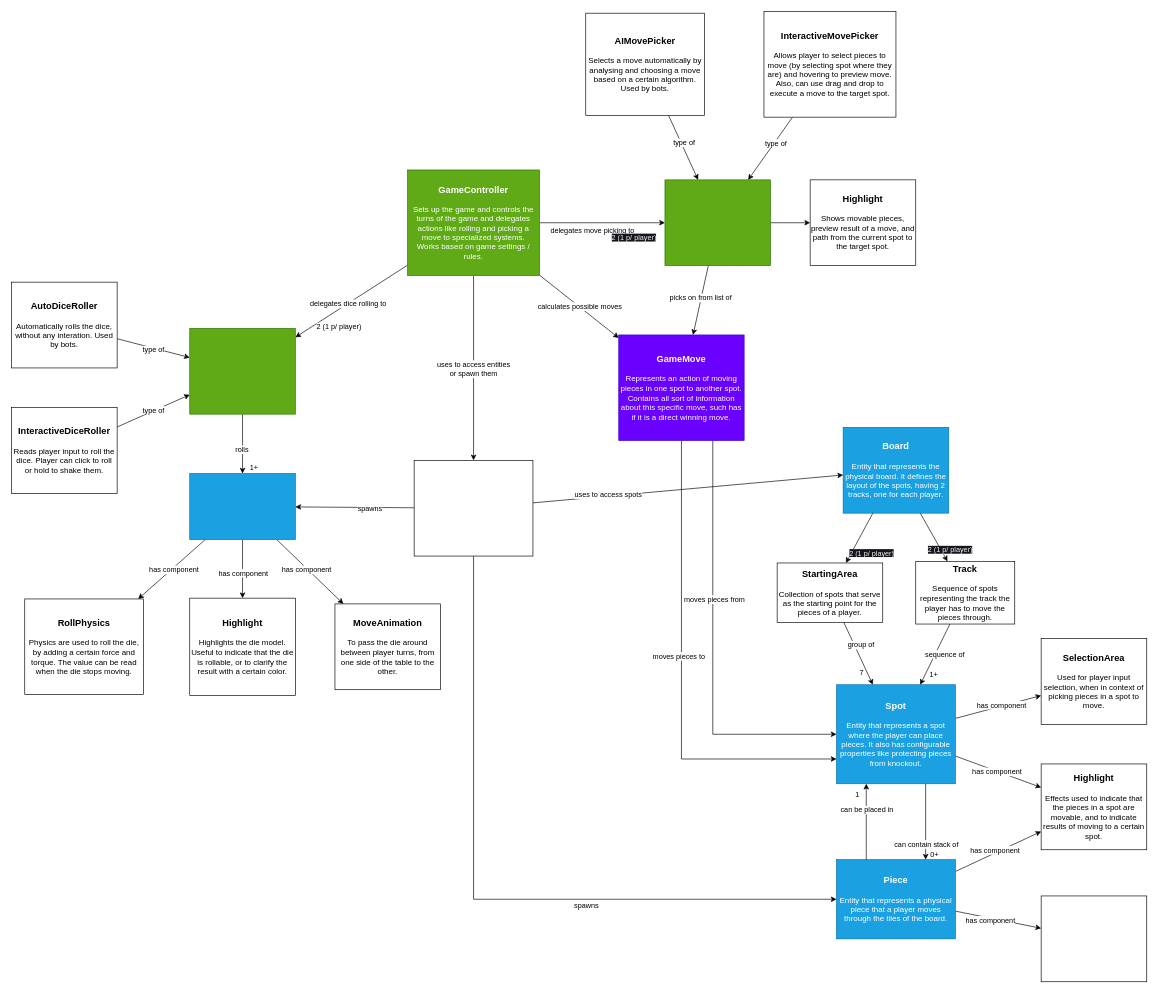
The diagram is 1158 pixels wide and 993 high, and some of its shapes have lost their labels. Here are the shapes that lost their labels. From the top down, the centre of each, then its label:
At pixel 717 222: "MovePicker Controls the process of picking a move from a list of possible moves.".
At pixel 242 371: "DiceRoller Controls the process of rolling the dice and reading their values.".
At pixel 242 506: "Die Entity that represents a rollable binary die.".
At pixel 473 508: "EntityManager Used for spawning or access entities in the game.".
At pixel 1093 938: "MoveAnimation To move the pieces around physically, from one spot to another.".
